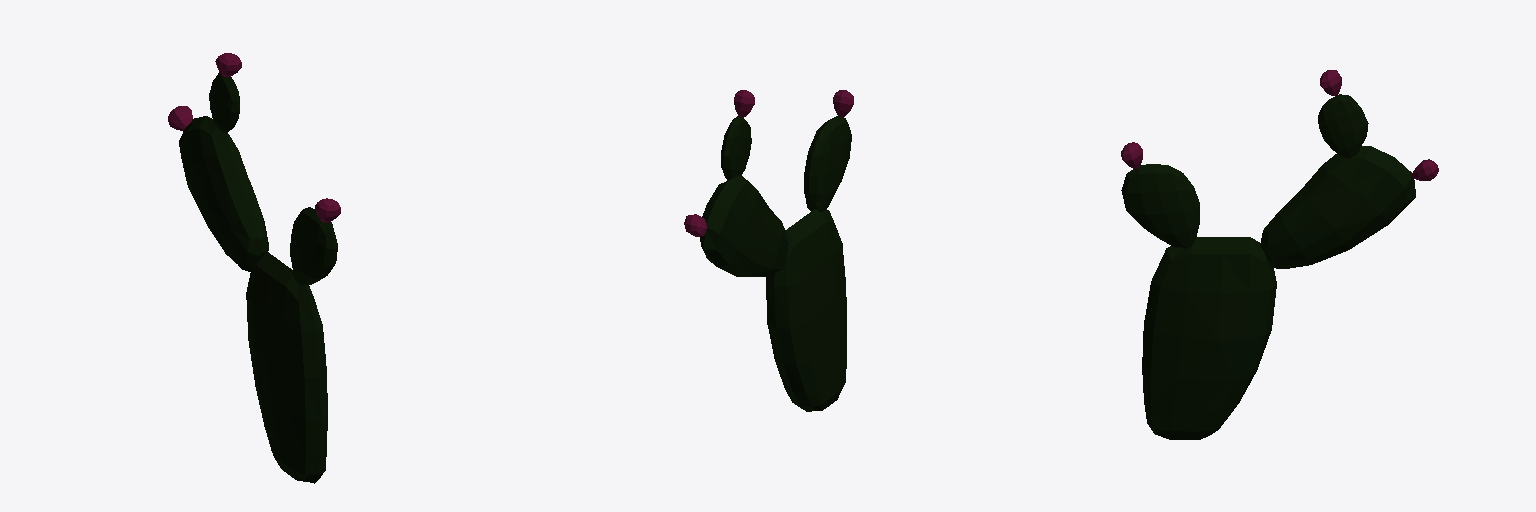
The model's file is CactusFlowers_5.obj.
The picture shows the model from 3 angles: view 1: azimuth 30°, elevation 25°; view 2: azimuth 150°, elevation 25°; view 3: azimuth 270°, elevation 25°; orthographic projection.
Visible parts, largest first — view 1: CactusFlowers_5_Cube.038; view 2: CactusFlowers_5_Cube.038; view 3: CactusFlowers_5_Cube.038.
Part boxes in pixels (x1,y1,x2,y2): CactusFlowers_5_Cube.038: (168, 53, 340, 483); CactusFlowers_5_Cube.038: (684, 90, 853, 411); CactusFlowers_5_Cube.038: (1121, 70, 1438, 439).
Size of the model in its own units: 0.1117 by 0.9382 by 0.734.